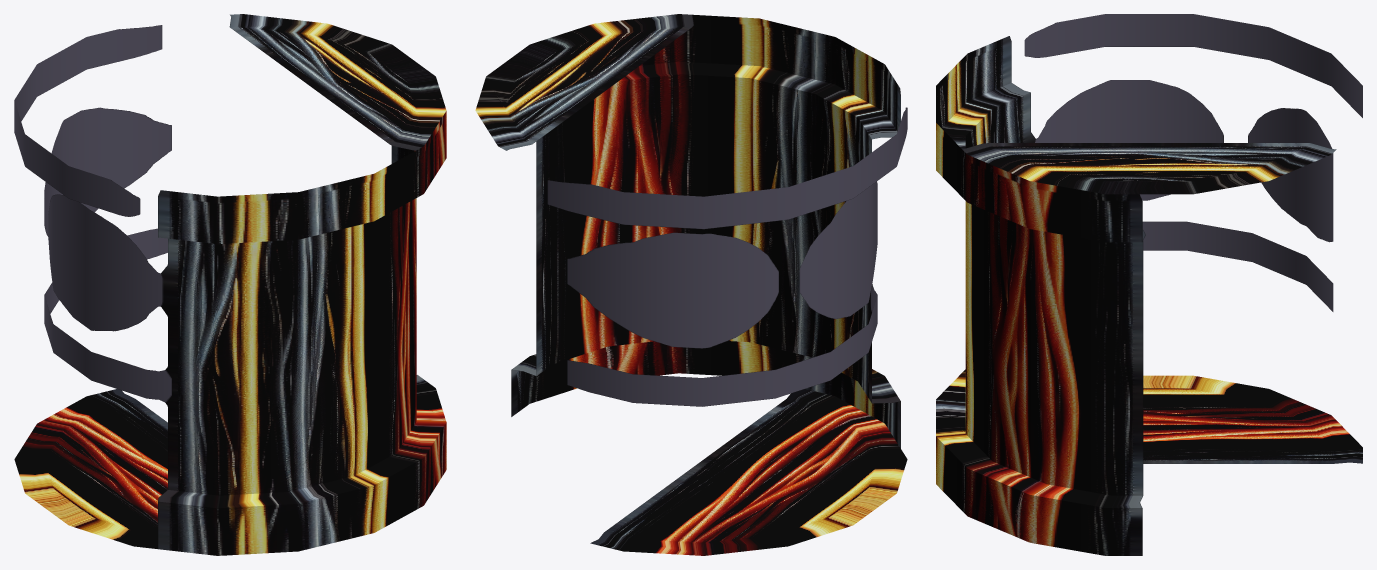
Rendered from small wire roll.fbx.
3 views of the same model, side by side, from view 1: azimuth 30°, elevation 25°; view 2: azimuth 150°, elevation 25°; view 3: azimuth 270°, elevation 25° (orthographic).
Parts seen in each view (by area): view 1: Cylinder; view 2: Cylinder; view 3: Cylinder.
Part boxes in pixels (left/top/right/bottom): Cylinder: left=14, top=14, right=446, bottom=555; Cylinder: left=475, top=14, right=907, bottom=555; Cylinder: left=936, top=14, right=1362, bottom=555.
Bounding box in the file's own units: 214 × 200 × 214.
Materials: 1 (1 with a texture image).
